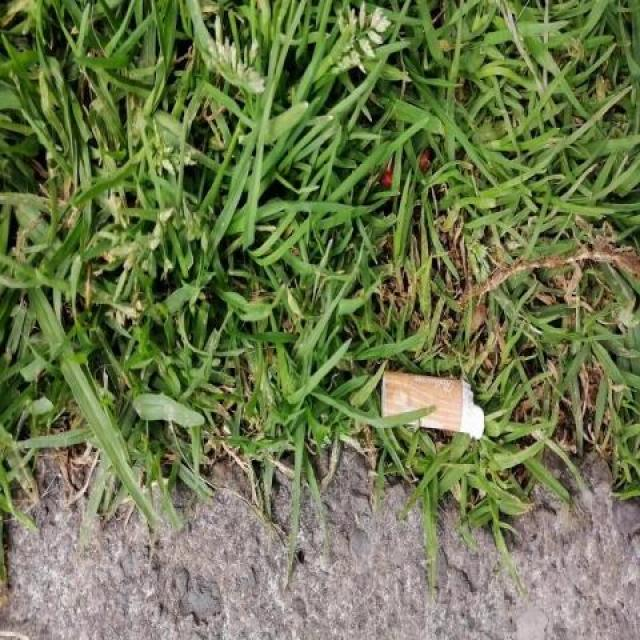non-organic waste: (377, 367, 491, 445)
